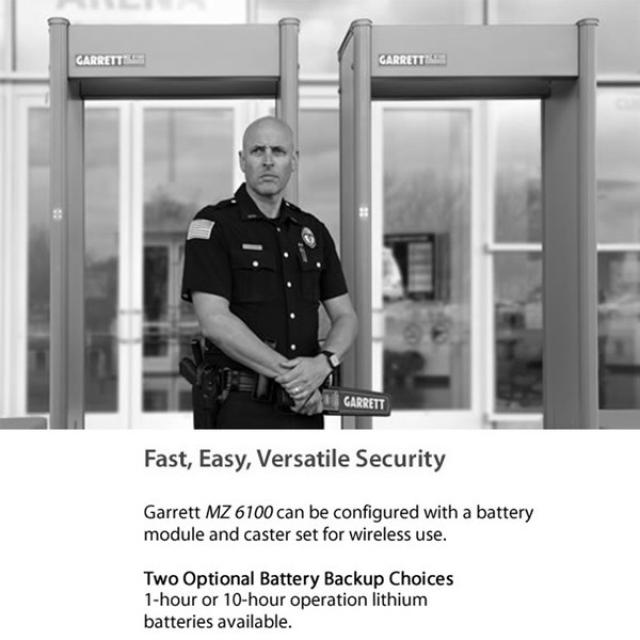gun: (177, 361, 223, 421)
